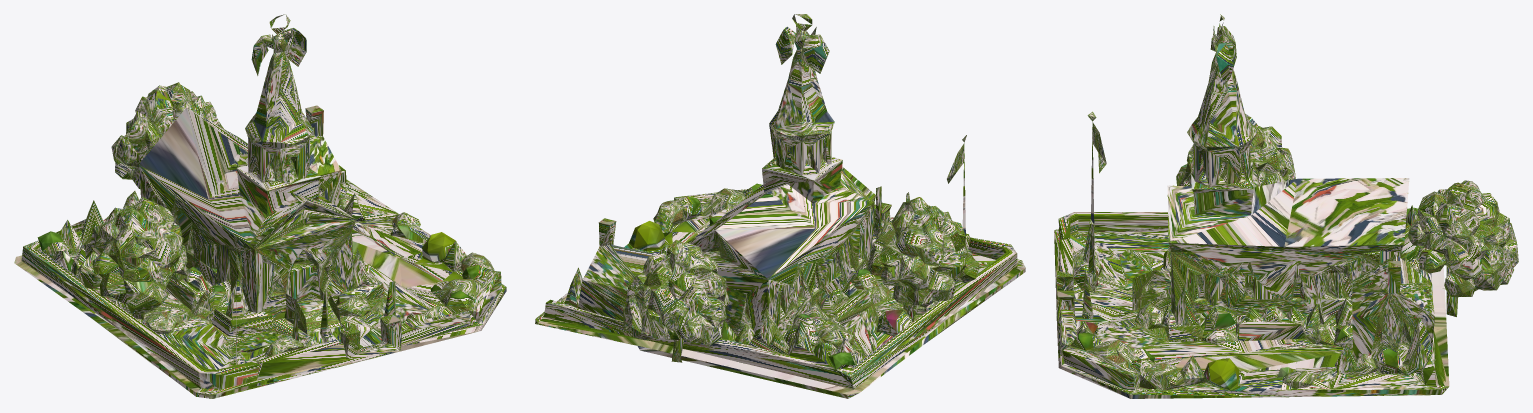
The model's file is town_center.glb.
3 renders of one model, left to right at view 1: azimuth 30°, elevation 25°; view 2: azimuth 150°, elevation 25°; view 3: azimuth 270°, elevation 25°, orthographic. The views are drawn at different scales.
Parts seen in each view (by area): view 1: normalize; view 2: normalize; view 3: normalize.
Boxes of the visible parts, box(x1,y1,x2,y2) form: normalize: box(14, 14, 506, 398); normalize: box(535, 14, 1025, 398); normalize: box(1054, 14, 1518, 398).
Bounding box in the file's own units: 0.917 × 0.6967 × 1.
1 material, 1 textured.
